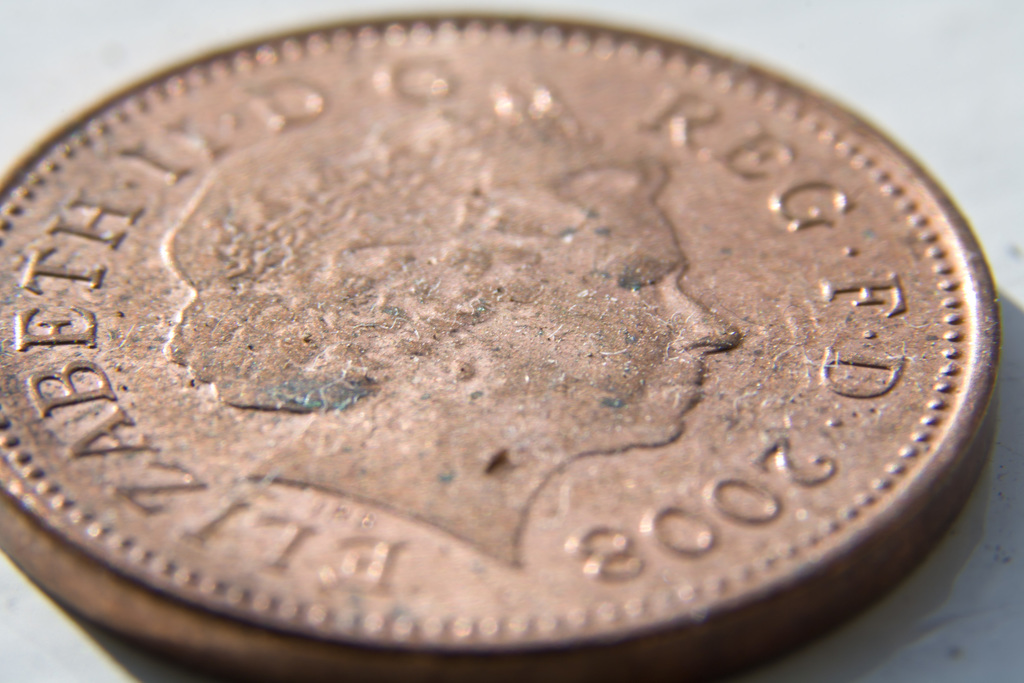Coin: (0, 10, 1003, 682)
